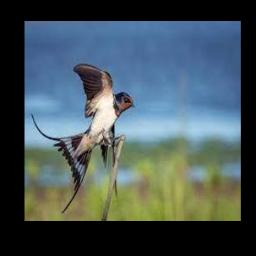Swallow: (31, 64, 133, 215)
